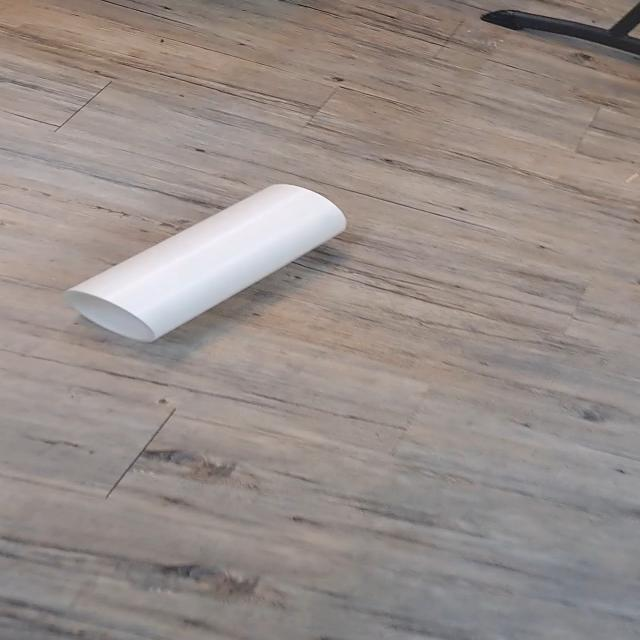CORAL: (45, 169, 371, 369)
